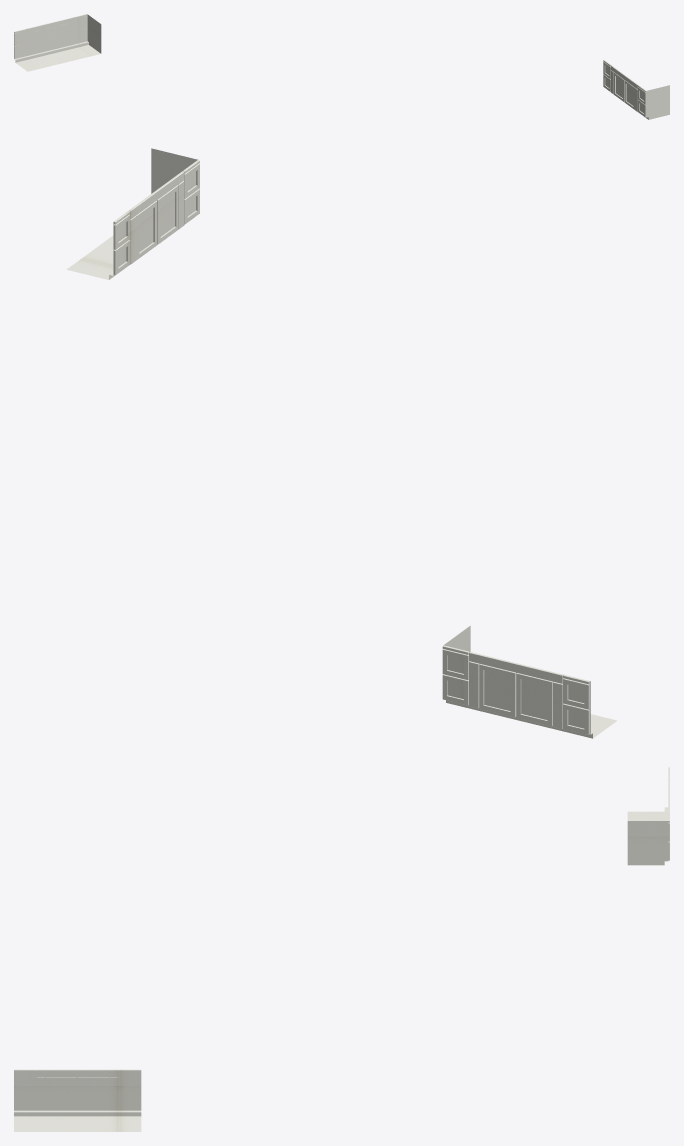
The model's file is Cabinets_Linen_.glb.
3 views of the same model, one above another, from view 1: azimuth 30°, elevation 25°; view 2: azimuth 150°, elevation 25°; view 3: azimuth 270°, elevation 25° (orthographic). The views are drawn at different scales.
Parts seen in each view (by area): view 1: Cabinet_linen; view 2: Cabinet_linen; view 3: Cabinet_linen.
Part boxes in pixels (x1,y1,x2,y2): Cabinet_linen: [14, 14, 669, 119]; Cabinet_linen: [66, 148, 616, 738]; Cabinet_linen: [14, 767, 669, 1131].
Size of the model in its own units: 17 by 1.1 by 14.71.
1 material, 1 textured.
